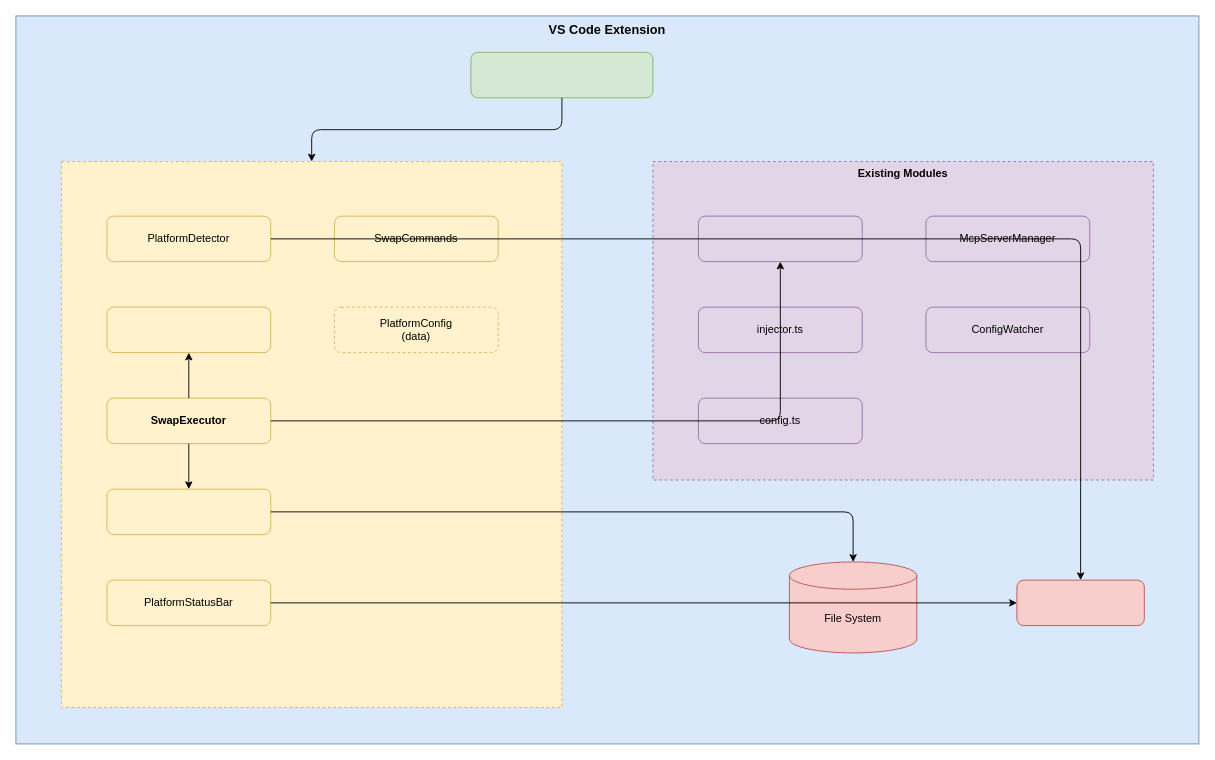
Some shapes in this 1215 by 760 pixel diagram are drawn without their labels. The box of each missing label's shape, as (x1, y1, x2, y2) in pixels:
BackupManager: (106, 306, 271, 353)
checksum.ts: (698, 215, 862, 262)
extension.ts (Entry Point): (470, 51, 653, 98)
Platform Swap Module: (61, 161, 562, 708)
StateManager: (106, 488, 271, 535)
VS Code API: (1016, 579, 1144, 626)
